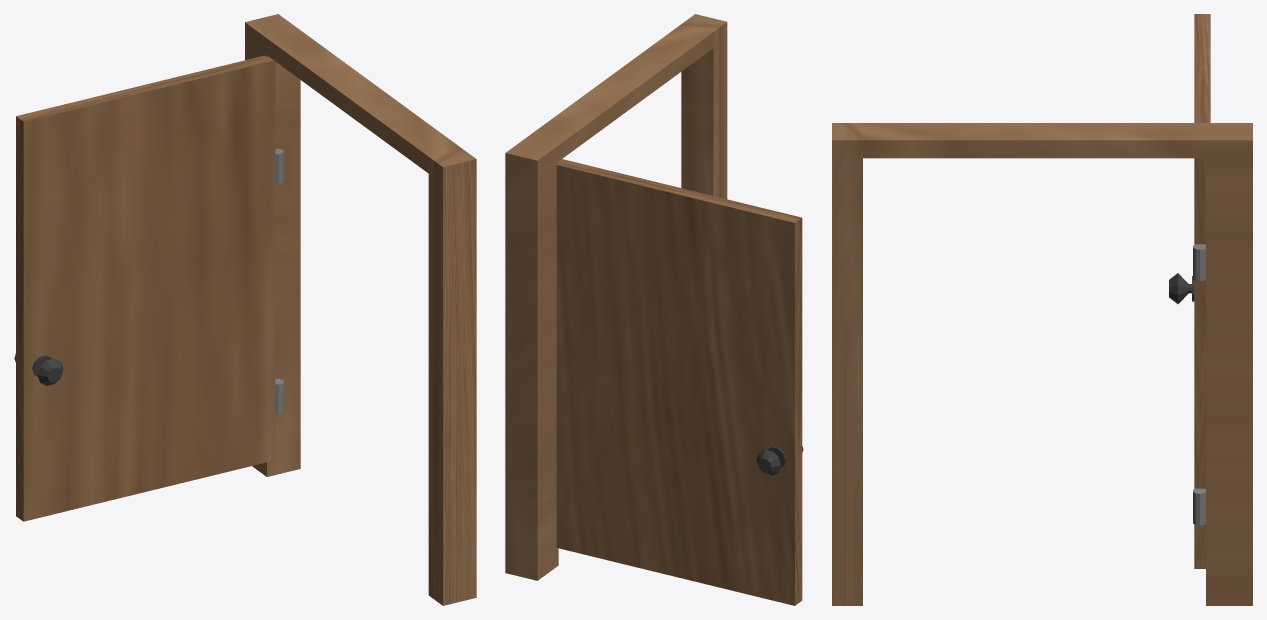
File: dış kapı.fbx
3 renders of one model, left to right at view 1: azimuth 30°, elevation 25°; view 2: azimuth 150°, elevation 25°; view 3: azimuth 270°, elevation 25°, orthographic. The views are drawn at different scales.
Parts seen in each view (by area): view 1: Plane.024; view 2: Plane.024; view 3: Plane.024.
Boxes of the visible parts, x1,y1,x2,y2 form: Plane.024: [14, 14, 476, 605]; Plane.024: [505, 14, 803, 605]; Plane.024: [832, 14, 1252, 605].
Bounding box in the file's own units: 202 × 300 × 245.
1 material, 1 textured.
